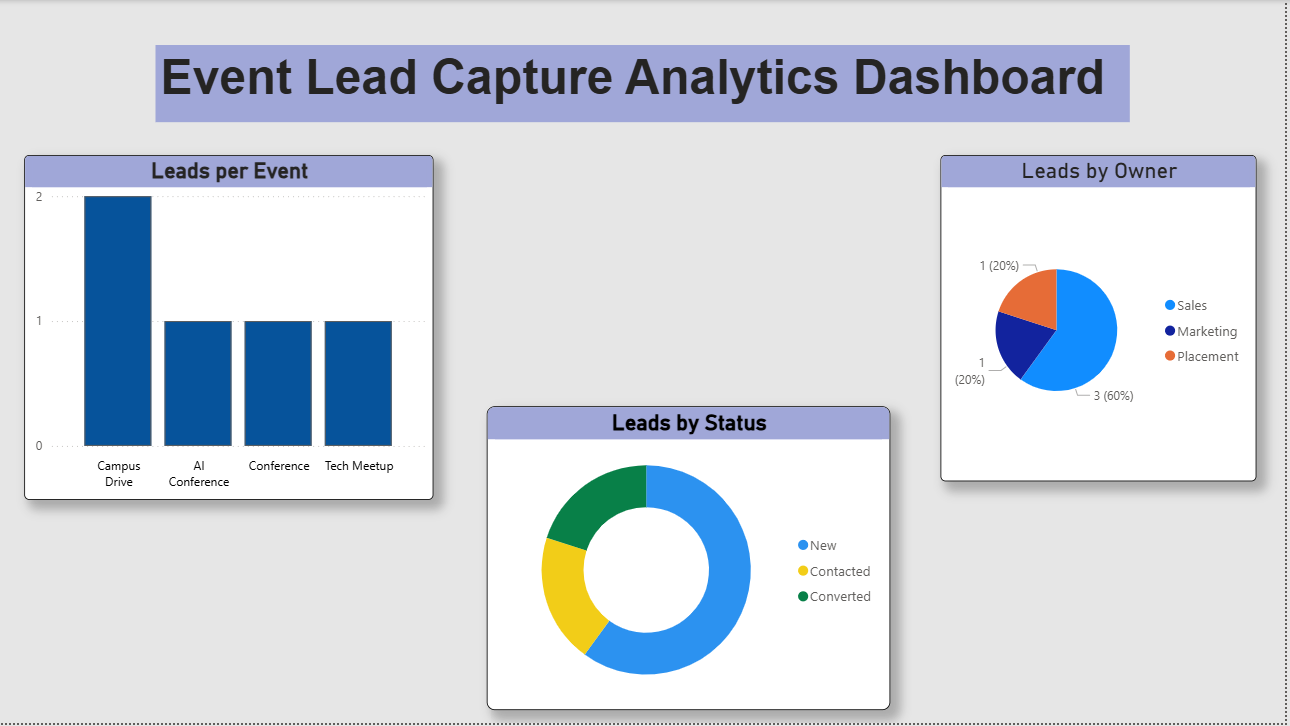

This screenshot's page, from the dashboard's own definition file:
{"tool":"powerbi","page":{"name":"Page 1","canvas":[1280,720],"ordinal":0},"visuals":[{"type":"clusteredColumnChart","title":" Leads per Event","fields":{"Category":["cra83_newtable.Source"],"Y":["Count(cra83_newtable.Name)"]},"box":[26.7,154.8,407.6,343.5],"z":0},{"type":"pieChart","title":"Leads by Owner","fields":{"Category":["cra83_newtable.Owner 2"],"Y":["Count(cra83_newtable.Name)"]},"box":[937.9,154.3,314.7,324.7],"z":1000},{"type":"donutChart","title":"Leads by Status","fields":{"Category":["cra83_newtable.Status 2"],"Y":["Count(cra83_newtable.Name)"]},"box":[486.4,404.3,401.8,302.3],"z":2000},{"type":"textbox","box":[156.6,44.5,970,76.5],"z":3000}]}

Visuals, with their boxes in screenshot pixels (x1, y1, x2, y2), scaled from the page's 1280x720 canvas onto the 1290x726 screenshot:
" Leads per Event" clusteredColumnChart: [x1=27, y1=156, x2=438, y2=502]
"Leads by Owner" pieChart: [x1=945, y1=156, x2=1262, y2=483]
"Leads by Status" donutChart: [x1=490, y1=408, x2=895, y2=712]
textbox: [x1=158, y1=45, x2=1135, y2=122]
